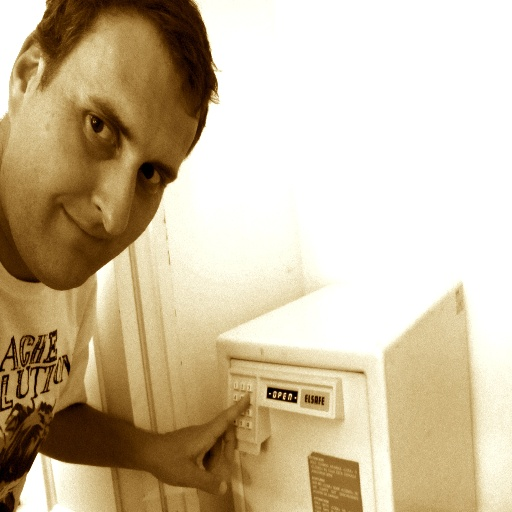hand: (169, 376, 259, 500)
